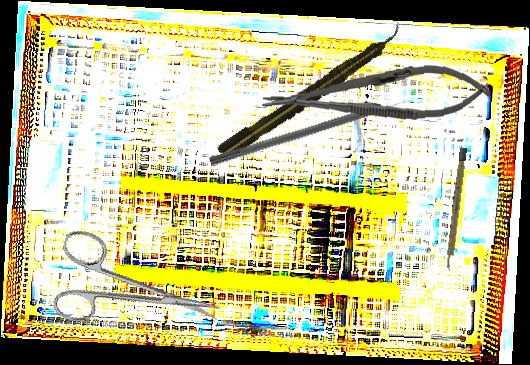Handpiece: (213, 22, 410, 164)
Iris Scissors: (43, 226, 231, 360)
Needle Holder: (259, 60, 494, 129)
Pusher: (208, 95, 413, 169)
Scalpel Handle: (444, 147, 468, 272)
